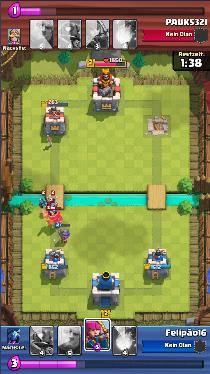ally_musketeer: (56, 229, 70, 244)
enemy_knight: (42, 210, 64, 224)
enemy_minion: (47, 205, 58, 214), (49, 198, 58, 207), (38, 199, 48, 207)
